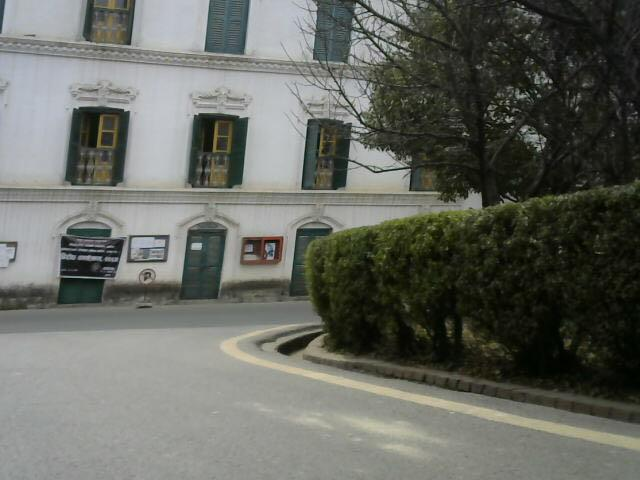Building: (0, 0, 331, 301)
Road: (0, 315, 640, 480)
Traffic sign: (135, 266, 160, 308)
Tree: (341, 3, 640, 370)
